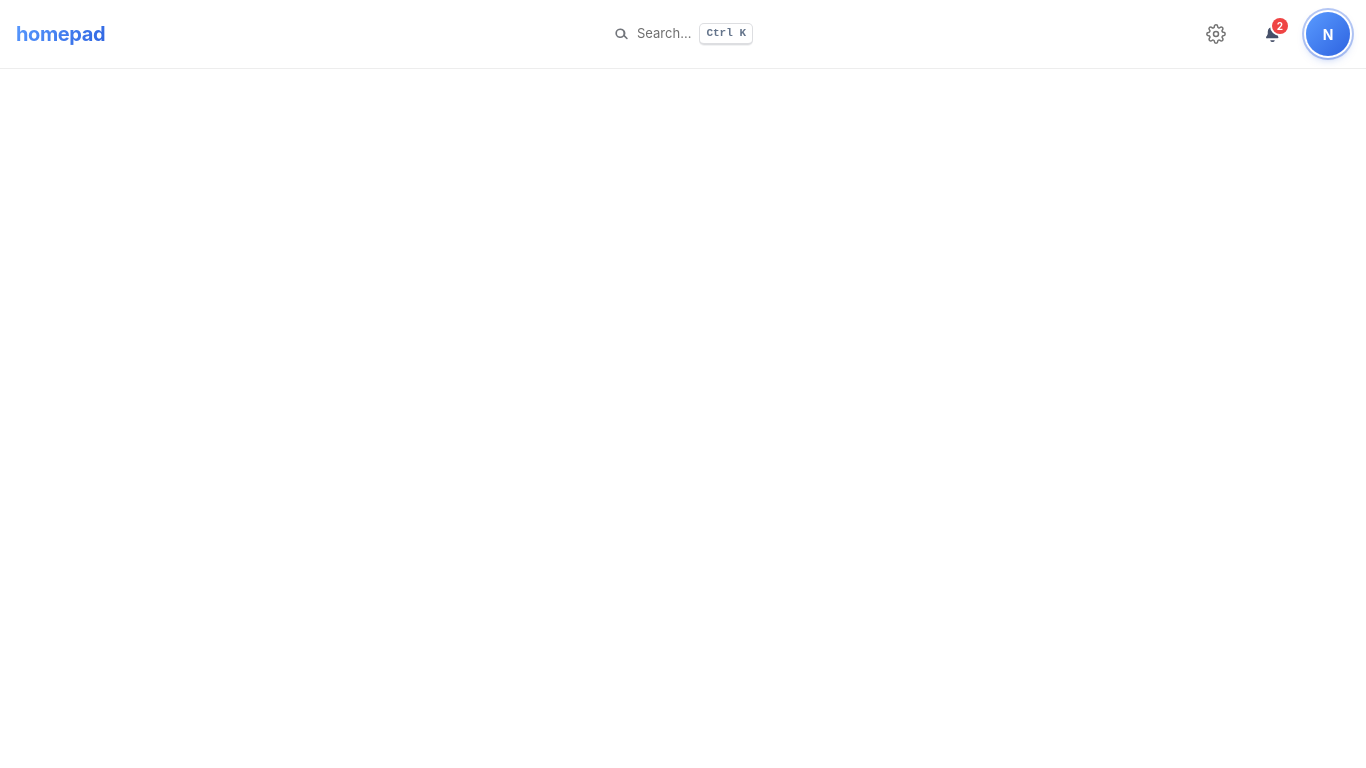
Test case: alert history wiring (Home) › AC-007 — opening the panel clears the badge but keeps the events
Expected: the text with test id "alert-bell-badge" reads "2", [1277,20,1283,32]
Click the button with test id "alert-bell": (1272, 34) [1250,12,1294,56]
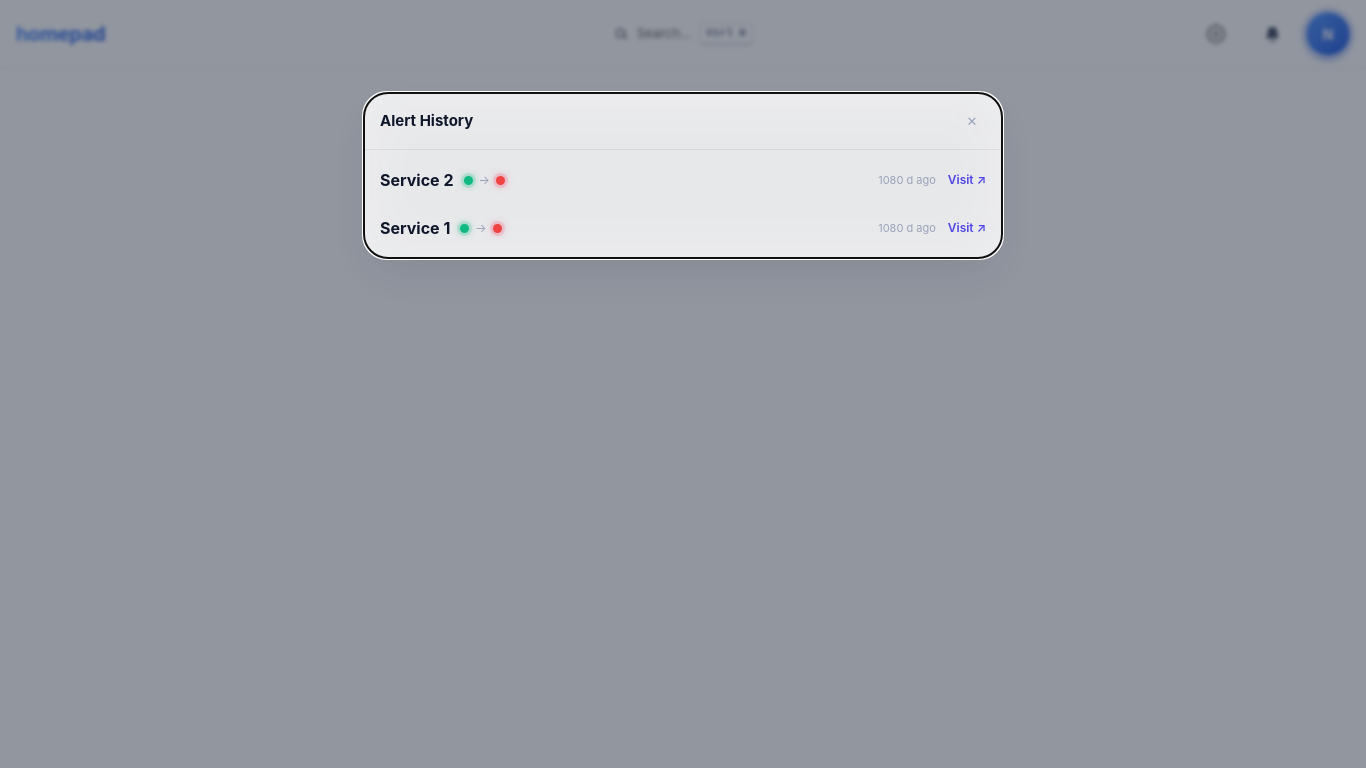
Expected: the text with test id "alert-bell-badge" is gone
